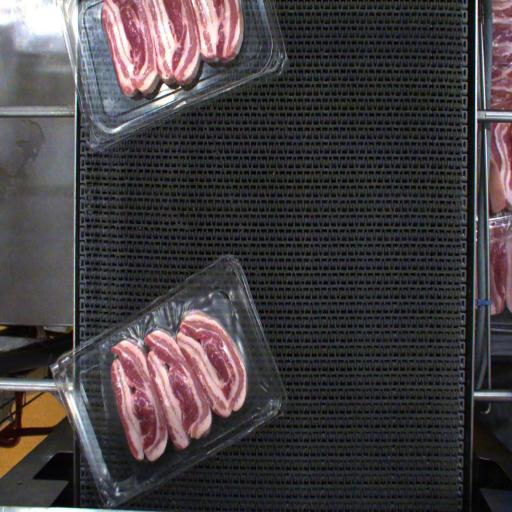unsealed: (69, 285, 276, 439)
